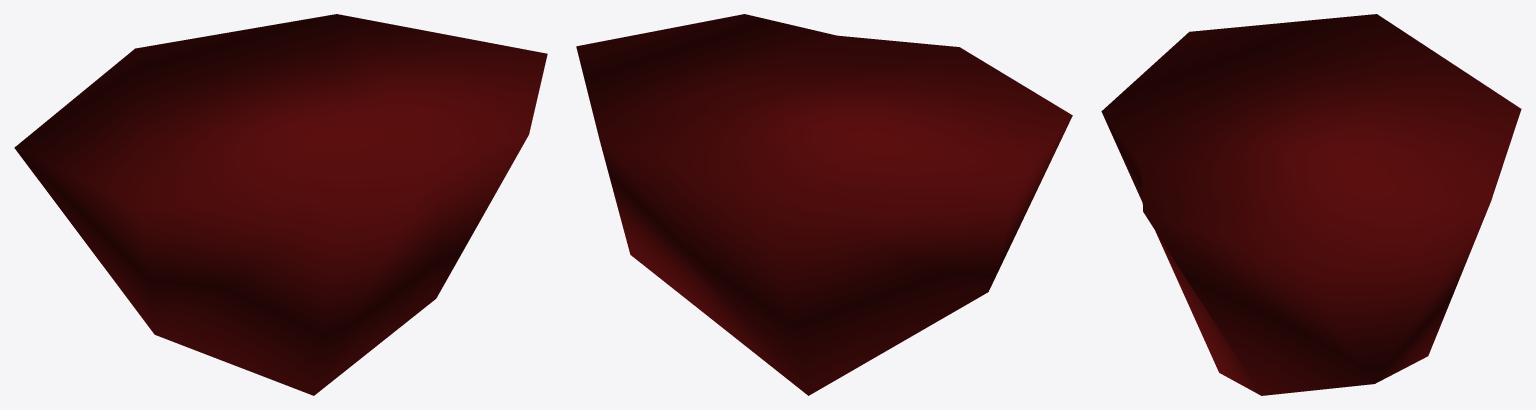
File: Ile_4_Collision.FBX
The picture shows the model from 3 angles, left to right: view 1: azimuth 30°, elevation 25°; view 2: azimuth 150°, elevation 25°; view 3: azimuth 270°, elevation 25°; orthographic projection. The views are drawn at different scales.
Parts seen in each view (by area): view 1: Ile_4_Collision; view 2: Ile_4_Collision; view 3: Ile_4_Collision.
Part boxes in pixels (x1=…): Ile_4_Collision: x1=14, y1=14, x2=547, y2=395; Ile_4_Collision: x1=576, y1=14, x2=1072, y2=395; Ile_4_Collision: x1=1101, y1=14, x2=1521, y2=395.
Bounding box in the file's own units: 4583 × 3311 × 2166.
